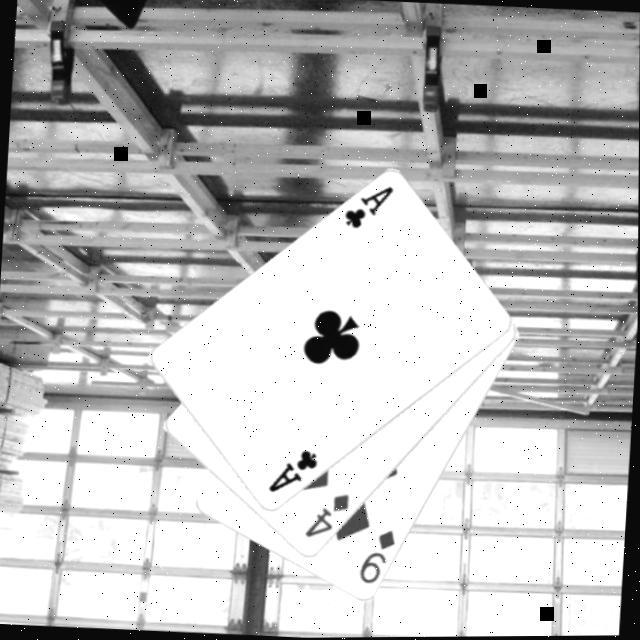4D: (302, 490, 353, 544)
9D: (357, 528, 400, 590)
AC: (265, 446, 323, 499), (342, 182, 398, 235)
